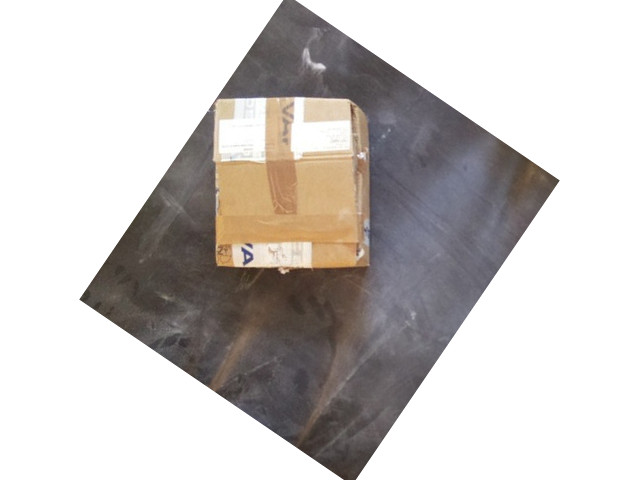cardboard: (216, 99, 366, 265)
